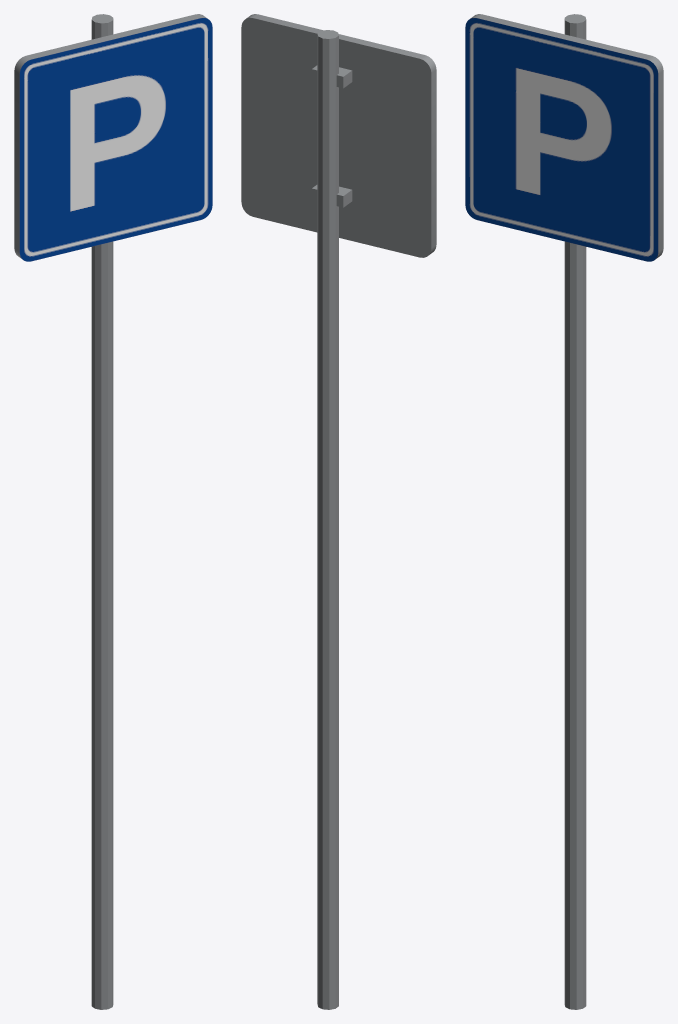
The model's file is sign-parking.glb.
3 renders of one model, left to right at view 1: azimuth 30°, elevation 25°; view 2: azimuth 150°, elevation 25°; view 3: azimuth 330°, elevation 25°, orthographic.
Parts seen in each view (by area): view 1: sign-parking; view 2: sign-parking; view 3: sign-parking.
Boxes of the visible parts, x1,y1,x2,y2 form: sign-parking: [14, 14, 212, 1009]; sign-parking: [241, 14, 436, 1009]; sign-parking: [465, 14, 663, 1009].
Size of the model in its own units: 0.6 by 2.93 by 0.103.
Materials: 1 (1 with a texture image).
